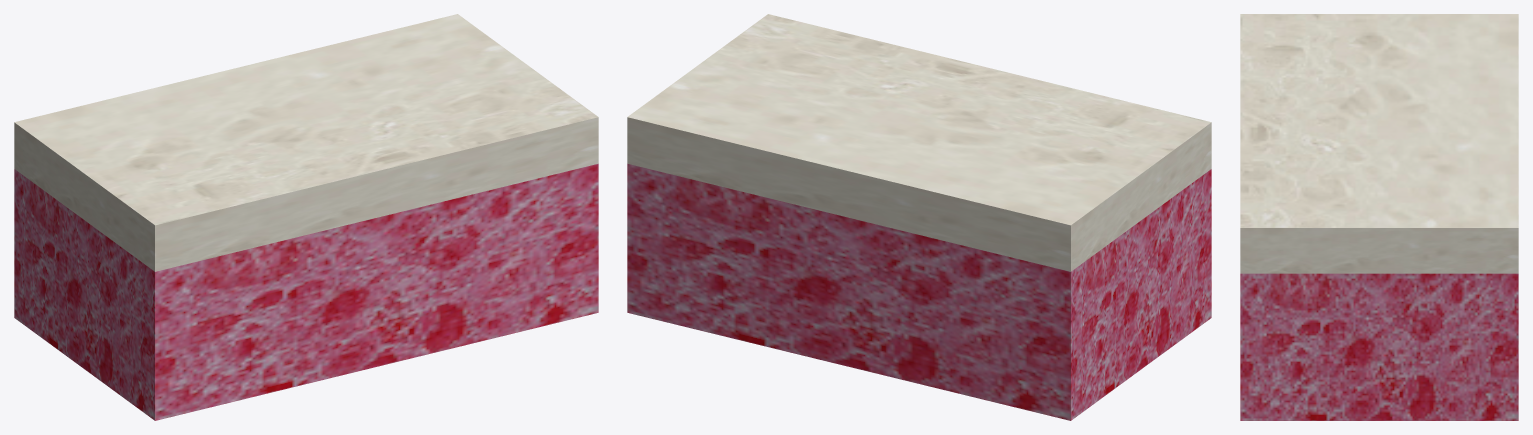
Rendered from spange1.FBX.
3 renders of one model, left to right at view 1: azimuth 30°, elevation 25°; view 2: azimuth 150°, elevation 25°; view 3: azimuth 270°, elevation 25°, orthographic.
Visible parts, largest first — view 1: Box001, Object001; view 2: Box001, Object001; view 3: Box001, Object001.
Boxes of the visible parts, x1,y1,x2,y2 form: Box001: (14, 14, 598, 271); Object001: (14, 163, 598, 420); Box001: (627, 14, 1211, 271); Object001: (627, 163, 1211, 420); Box001: (1240, 14, 1518, 273); Object001: (1240, 273, 1518, 420).
Bounding box in the file's own units: 149 × 62.92 × 82.22.
2 materials, 2 textured.
